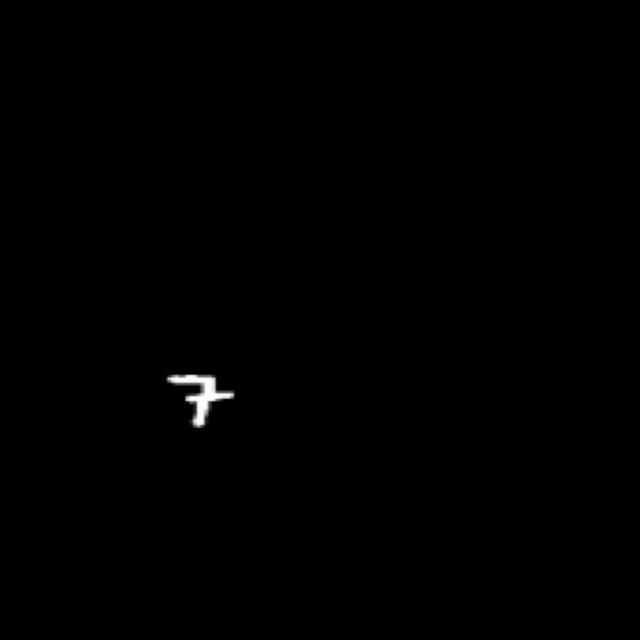seven -7-: (163, 371, 244, 429)
